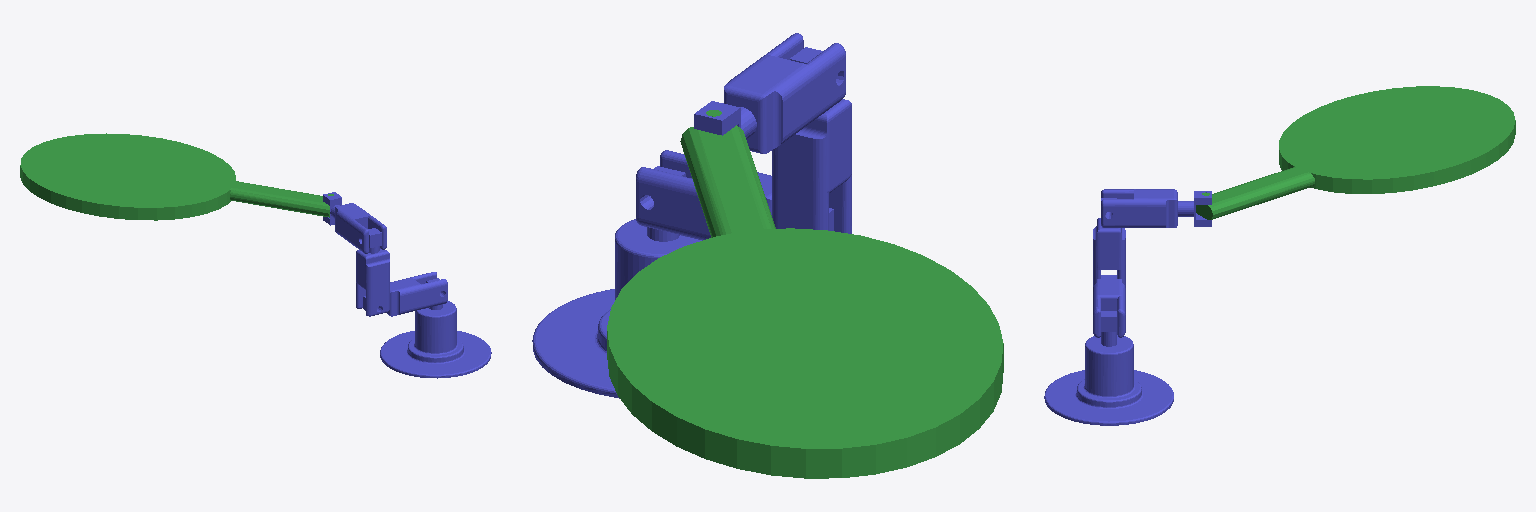
URDF robot description (8DOF_arm):
<?xml version="1.0" encoding="utf-8"?>
<!-- This URDF was automatically created by SolidWorks to URDF Exporter! Originally created by [author] ([email redacted]) 
     Commit Version: 1.6.0-4-g7f85cfe  Build Version: 1.6.7995.38578
     For more information, please see http://wiki.ros.org/sw_urdf_exporter -->
<robot
  name="8DOF_arm">
  <link
    name="base_link">
    <inertial>
      <origin
        xyz="7.01981621351124E-19 7.30091750501839E-18 0.0322476251952913"
        rpy="0 0 0" />
      <mass
        value="0.642659334578088" />
      <inertia
        ixx="0.00128323309798019"
        ixy="-5.79102308821978E-20"
        ixz="-1.24304284116364E-22"
        iyy="0.00128323309798019"
        iyz="9.24581334581879E-20"
        izz="0.0014380231118093" />
    </inertial>
    <visual>
      <origin
        xyz="0 0 0"
        rpy="0 0 0" />
      <geometry>
        <mesh
          filename="package://8DOF_arm/meshes/base_link.STL" />
      </geometry>
      <material
        name="">
        <color
          rgba="0.388235294117647 0.4 0.858823529411765 0.3" />
      </material>
    </visual>
    <collision>
      <origin
        xyz="0 0 0"
        rpy="0 0 0" />
      <geometry>
        <mesh
          filename="package://8DOF_arm/meshes/base_link.STL" />
      </geometry>
    </collision>
  </link>
  <link
    name="base_pin">
    <inertial>
      <origin
        xyz="-2.37440803027089E-15 0.0382952489796256 2.70140680659771E-16"
        rpy="0 0 0" />
      <mass
        value="0.0389102114458838" />
      <inertia
        ixx="2.07768422807742E-05"
        ixy="-6.89483633050152E-22"
        ixz="-8.37747101928375E-23"
        iyy="3.6324844996756E-06"
        iyz="2.21684945430942E-21"
        izz="2.09173954351496E-05" />
    </inertial>
    <visual>
      <origin
        xyz="0 0 0"
        rpy="0 0 0" />
      <geometry>
        <mesh
          filename="package://8DOF_arm/meshes/base_pin.STL" />
      </geometry>
      <material
        name="">
        <color
          rgba="0.388235294117647 0.4 0.858823529411765 0.3" />
      </material>
    </visual>
    <collision>
      <origin
        xyz="0 0 0"
        rpy="0 0 0" />
      <geometry>
        <mesh
          filename="package://8DOF_arm/meshes/base_pin.STL" />
      </geometry>
    </collision>
  </link>
  <joint
    name="base_pin"
    type="continuous">
    <origin
      xyz="0 0 0.0698499999999998"
      rpy="1.5707963267949 0 0" />
    <parent
      link="base_link" />
    <child
      link="base_pin" />
    <axis
      xyz="0 1 0" />
  </joint>
  <link
    name="first_link">
    <inertial>
      <origin
        xyz="-4.08292269085367E-09 -0.0550901722119836 2.09780265891524E-05"
        rpy="0 0 0" />
      <mass
        value="0.209590237829908" />
      <inertia
        ixx="0.000233815998884336"
        ixy="-6.41201289500509E-11"
        ixz="1.39710741372473E-09"
        iyy="9.29557212780078E-05"
        iyz="-6.93854355170575E-08"
        izz="0.000240744791848488" />
    </inertial>
    <visual>
      <origin
        xyz="0 0 0"
        rpy="0 0 0" />
      <geometry>
        <mesh
          filename="package://8DOF_arm/meshes/first_link.STL" />
      </geometry>
      <material
        name="">
        <color
          rgba="0.388235294117647 0.4 0.858823529411765 0.3" />
      </material>
    </visual>
    <collision>
      <origin
        xyz="0 0 0"
        rpy="0 0 0" />
      <geometry>
        <mesh
          filename="package://8DOF_arm/meshes/first_link.STL" />
      </geometry>
    </collision>
  </link>
  <joint
    name="first_link"
    type="continuous">
    <origin
      xyz="0 0.0635 0"
      rpy="1.5707963267949 1.5707963267949 0" />
    <parent
      link="base_pin" />
    <child
      link="first_link" />
    <axis
      xyz="1 0 0" />
  </joint>
  <link
    name="first_pin">
    <inertial>
      <origin
        xyz="0.025545876062429 -2.28292906086932E-15 0"
        rpy="0 0 0" />
      <mass
        value="0.0260398414768073" />
      <inertia
        ixx="2.59455351351942E-06"
        ixy="1.39685737648696E-21"
        ixz="-1.42378986672845E-21"
        iyy="7.10750707409668E-06"
        iyz="-2.42852814127492E-22"
        izz="6.96695391972137E-06" />
    </inertial>
    <visual>
      <origin
        xyz="0 0 0"
        rpy="0 0 0" />
      <geometry>
        <mesh
          filename="package://8DOF_arm/meshes/first_pin.STL" />
      </geometry>
      <material
        name="">
        <color
          rgba="0.388235294117647 0.4 0.858823529411765 0.3" />
      </material>
    </visual>
    <collision>
      <origin
        xyz="0 0 0"
        rpy="0 0 0" />
      <geometry>
        <mesh
          filename="package://8DOF_arm/meshes/first_pin.STL" />
      </geometry>
    </collision>
  </link>
  <joint
    name="first_pin"
    type="continuous">
    <origin
      xyz="0 -0.094412 0"
      rpy="0 0 -1.5708" />
    <parent
      link="first_link" />
    <child
      link="first_pin" />
    <axis
      xyz="1 0 0" />
  </joint>
  <link
    name="second_link">
    <inertial>
      <origin
        xyz="-4.08292010696858E-09 -0.0550901722119811 2.09780265891801E-05"
        rpy="0 0 0" />
      <mass
        value="0.209590237829908" />
      <inertia
        ixx="0.000233815998884336"
        ixy="-6.41201288853313E-11"
        ixz="1.39710741373865E-09"
        iyy="9.29557212780078E-05"
        iyz="-6.93854355169687E-08"
        izz="0.000240744791848488" />
    </inertial>
    <visual>
      <origin
        xyz="0 0 0"
        rpy="0 0 0" />
      <geometry>
        <mesh
          filename="package://8DOF_arm/meshes/second_link.STL" />
      </geometry>
      <material
        name="">
        <color
          rgba="0.388235294117647 0.4 0.858823529411765 0.3" />
      </material>
    </visual>
    <collision>
      <origin
        xyz="0 0 0"
        rpy="0 0 0" />
      <geometry>
        <mesh
          filename="package://8DOF_arm/meshes/second_link.STL" />
      </geometry>
    </collision>
  </link>
  <joint
    name="second_link"
    type="continuous">
    <origin
      xyz="0.0380999999999999 0 0"
      rpy="1.5707963267949 0 -1.5707963267949" />
    <parent
      link="first_pin" />
    <child
      link="second_link" />
    <axis
      xyz="1 0 0" />
  </joint>
  <link
    name="second_pin">
    <inertial>
      <origin
        xyz="0.025545876062429 0 -2.33354162788721E-15"
        rpy="0 0 0" />
      <mass
        value="0.0260398414768073" />
      <inertia
        ixx="2.59455351351943E-06"
        ixy="1.0021604189718E-21"
        ixz="-2.85175925370698E-22"
        iyy="7.10750707409667E-06"
        iyz="5.83761034000549E-23"
        izz="6.96695391972135E-06" />
    </inertial>
    <visual>
      <origin
        xyz="0 0 0"
        rpy="0 0 0" />
      <geometry>
        <mesh
          filename="package://8DOF_arm/meshes/second_pin.STL" />
      </geometry>
      <material
        name="">
        <color
          rgba="0.388235294117647 0.4 0.858823529411765 0.3" />
      </material>
    </visual>
    <collision>
      <origin
        xyz="0 0 0"
        rpy="0 0 0" />
      <geometry>
        <mesh
          filename="package://8DOF_arm/meshes/second_pin.STL" />
      </geometry>
    </collision>
  </link>
  <joint
    name="second_pin"
    type="continuous">
    <origin
      xyz="0 -0.094412 0"
      rpy="1.5708 0 -1.5708" />
    <parent
      link="second_link" />
    <child
      link="second_pin" />
    <axis
      xyz="1 0 0" />
  </joint>
  <link
    name="third_link">
    <inertial>
      <origin
        xyz="-4.0829E-09 0.05509 -2.0978E-05"
        rpy="0 0 0" />
      <mass
        value="0.20959" />
      <inertia
        ixx="0.00023382"
        ixy="6.412E-11"
        ixz="-1.3971E-09"
        iyy="9.2956E-05"
        iyz="-6.9385E-08"
        izz="0.00024074" />
    </inertial>
    <visual>
      <origin
        xyz="0 0 0"
        rpy="0 0 0" />
      <geometry>
        <mesh
          filename="package://8DOF_arm/meshes/third_link.STL" />
      </geometry>
      <material
        name="">
        <color
          rgba="0.38824 0.4 0.85882 0.3" />
      </material>
    </visual>
    <collision>
      <origin
        xyz="0 0 0"
        rpy="0 0 0" />
      <geometry>
        <mesh
          filename="package://8DOF_arm/meshes/third_link.STL" />
      </geometry>
    </collision>
  </link>
  <joint
    name="third_link"
    type="continuous">
    <origin
      xyz="0.0381 0 0"
      rpy="1.5707963267949 0 -1.5707963267949" />
    <parent
      link="second_pin" />
    <child
      link="third_link" />
    <axis
      xyz="1 0 0" />
  </joint>
  <link
    name="tennis_pin">
    <inertial>
      <origin
        xyz="0 0.033201 -2.7756E-17"
        rpy="0 0 0" />
      <mass
        value="0.035752" />
      <inertia
        ixx="1.378E-05"
        ixy="1.1705E-21"
        ixz="6.5644E-22"
        iyy="8.2428E-06"
        iyz="3.6051E-21"
        izz="1.8417E-05" />
    </inertial>
    <visual>
      <origin
        xyz="0 0 0"
        rpy="0 0 0" />
      <geometry>
        <mesh
          filename="package://8DOF_arm/meshes/tennis_pin.STL" />
      </geometry>
      <material
        name="">
        <color
          rgba="0.38824 0.4 0.85882 0.3" />
      </material>
    </visual>
    <collision>
      <origin
        xyz="0 0 0"
        rpy="0 0 0" />
      <geometry>
        <mesh
          filename="package://8DOF_arm/meshes/tennis_pin.STL" />
      </geometry>
    </collision>
  </link>
  <joint
    name="tennis_pin"
    type="continuous">
    <origin
      xyz="0 0.094412 0"
      rpy="0 1.5708 0" />
    <parent
      link="third_link" />
    <child
      link="tennis_pin" />
    <axis
      xyz="0 1 0" />
  </joint>
  <link
    name="tennis_racket">
    <inertial>
      <origin
        xyz="0.366359357987308 -1.49720355002714E-08 0.0155192883141906"
        rpy="0 0 0" />
      <mass
        value="2.70157890421177" />
      <inertia
        ixx="0.0145954644076415"
        ixy="-9.92588746263243E-09"
        ixz="-0.00108274864307061"
        iyy="0.059825373112049"
        iyz="-1.62234246216851E-09"
        izz="0.0455197680924056" />
    </inertial>
    <visual>
      <origin
        xyz="0 0 0"
        rpy="0 0 0" />
      <geometry>
        <mesh
          filename="package://8DOF_arm/meshes/tennis_racket.STL" />
      </geometry>
      <material
        name="">
        <color
          rgba="0.286274509803922 0.662745098039216 0.329411764705882 1" />
      </material>
    </visual>
    <collision>
      <origin
        xyz="0 0 0"
        rpy="0 0 0" />
      <geometry>
        <mesh
          filename="package://8DOF_arm/meshes/tennis_racket.STL" />
      </geometry>
    </collision>
  </link>
  <joint
    name="tennis_racket"
    type="continuous">
    <origin
      xyz="0 0.0571499999999999 0"
      rpy="0 -0.661454620295037 1.5707963267949" />
    <parent
      link="tennis_pin" />
    <child
      link="tennis_racket" />
    <axis
      xyz="0 1 0" />
  </joint>
</robot>

--- Render facts (derived) ---
Views: 3 orthographic renders of the robot side by side, from view 1: azimuth 30°, elevation 25°; view 2: azimuth 150°, elevation 25°; view 3: azimuth 270°, elevation 25°.
Model 8DOF_arm with 9 links and 8 joints (8 continuous), rooted at base_link, posed every joint at zero.
Visible links, largest first — view 1: tennis_racket, base_link, second_link, first_link, third_link; view 2: tennis_racket, base_link, second_link, third_link, first_link, tennis_pin; view 3: tennis_racket, base_link, third_link, second_link, first_link, tennis_pin, base_pin.
Link boxes in pixels (x1,y1,x2,y2): tennis_racket: (20, 133, 333, 220); base_link: (380, 301, 491, 378); second_link: (356, 249, 389, 316); first_link: (387, 272, 447, 316); third_link: (335, 203, 386, 253); tennis_racket: (607, 110, 1003, 478); base_link: (532, 219, 701, 398); second_link: (772, 99, 851, 233); third_link: (724, 33, 845, 153); first_link: (636, 150, 771, 240); tennis_pin: (694, 101, 756, 138); tennis_racket: (1196, 86, 1515, 219); base_link: (1044, 335, 1173, 425); third_link: (1101, 189, 1177, 227); second_link: (1093, 218, 1125, 287); first_link: (1093, 279, 1125, 337); tennis_pin: (1178, 191, 1211, 226); base_pin: (1101, 311, 1116, 346).
Size in the robot's own frame: 0.6614 by 0.7378 by 0.2913 metres.
9 mesh visuals loaded from 9 distinct referenced files (9 binary STL).